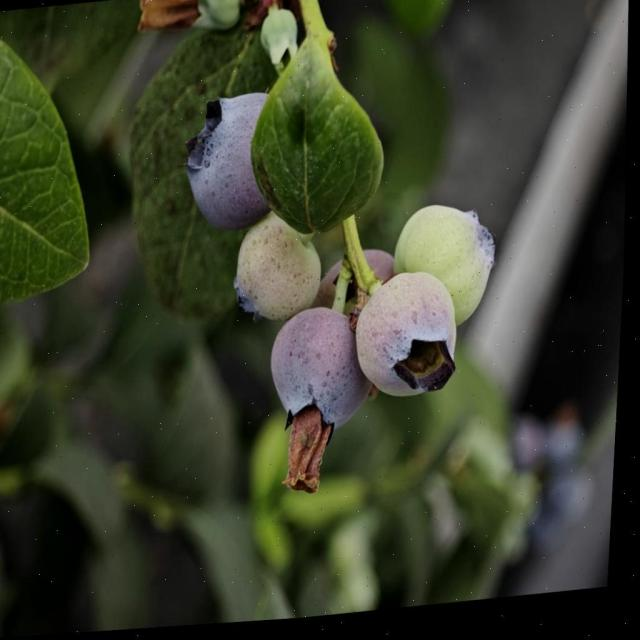Semi-RipeBlueBerry: (358, 274, 468, 409), (273, 305, 373, 442), (235, 216, 328, 330)
